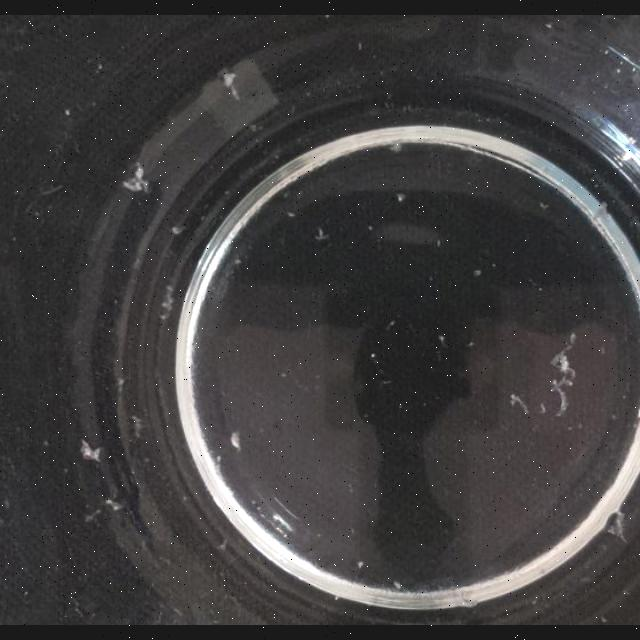Fibre: (539, 327, 583, 417), (608, 505, 628, 545), (122, 164, 150, 192), (220, 71, 242, 101), (158, 284, 176, 318), (80, 441, 102, 464), (511, 392, 527, 416), (130, 414, 144, 438), (315, 228, 329, 242)
microbeads: (230, 432, 242, 451), (396, 192, 406, 202), (438, 335, 447, 345), (393, 580, 402, 590), (357, 560, 365, 570), (387, 318, 395, 328), (473, 269, 482, 277), (366, 224, 374, 232), (234, 257, 242, 265), (96, 63, 104, 71), (436, 238, 442, 248), (286, 212, 296, 218), (468, 340, 474, 348), (65, 108, 71, 115), (371, 352, 377, 358), (280, 372, 286, 378)
